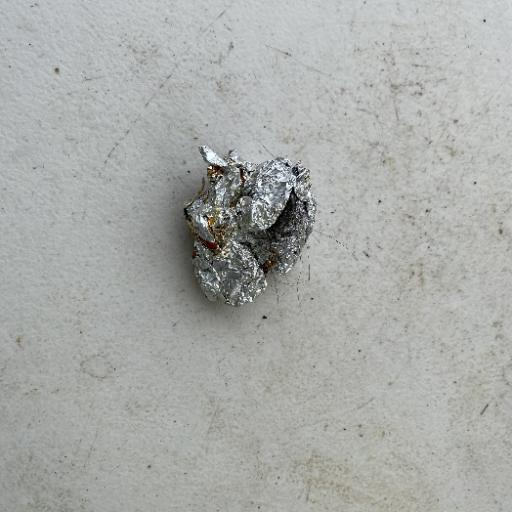Metal: (180, 142, 318, 308)
